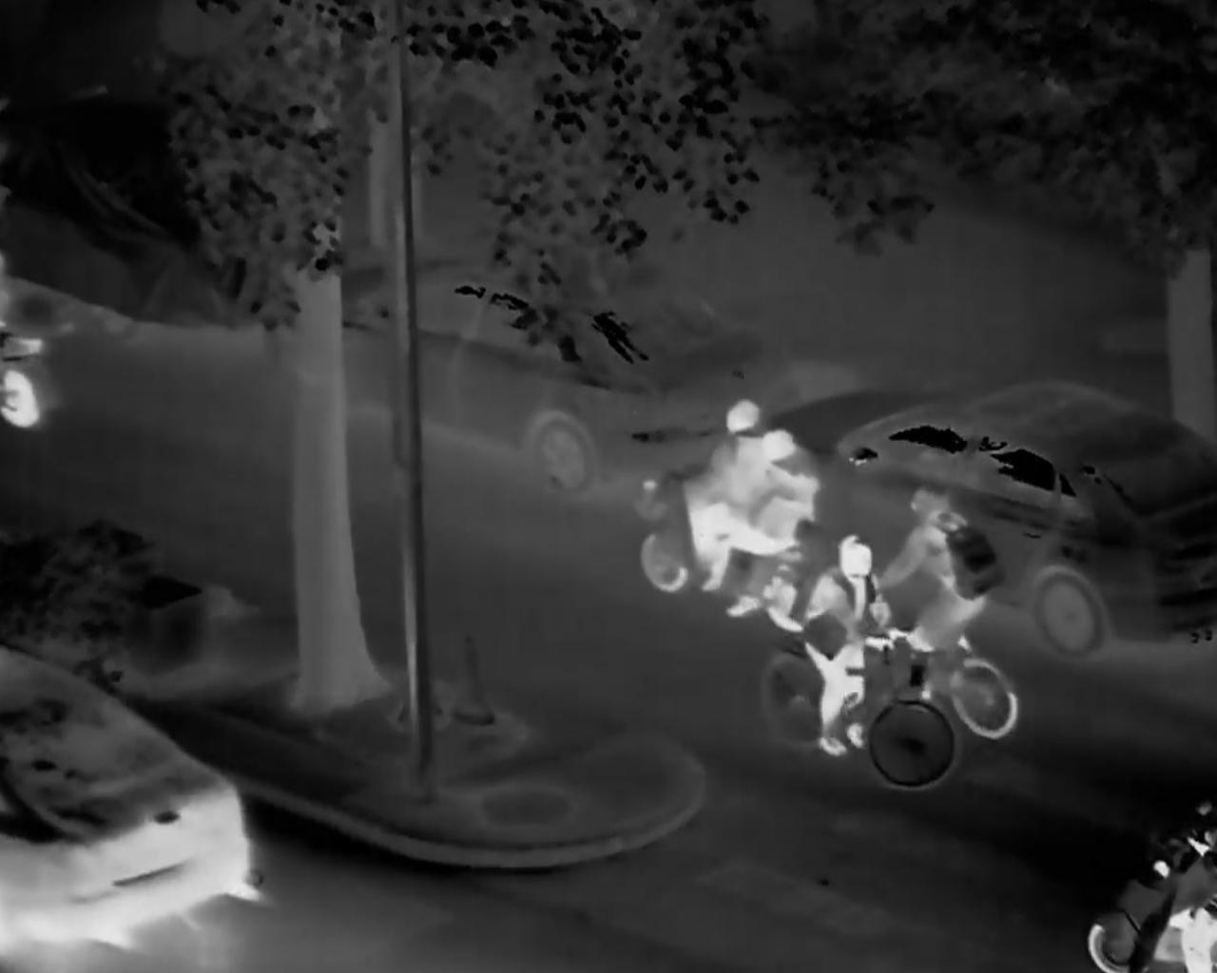person: (892, 475, 1008, 696), (793, 529, 901, 760), (688, 401, 760, 593), (758, 434, 829, 579)
